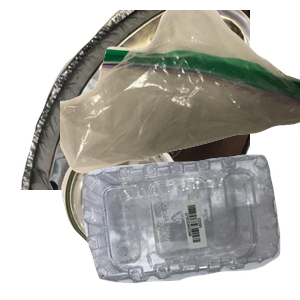glass: (59, 135, 254, 300)
metal: (18, 10, 258, 190)
plastic: (80, 152, 300, 300)
trash: (60, 10, 300, 176)
